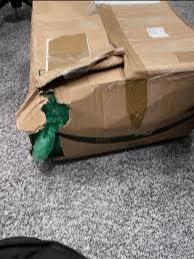damage_box: (15, 0, 193, 161)
